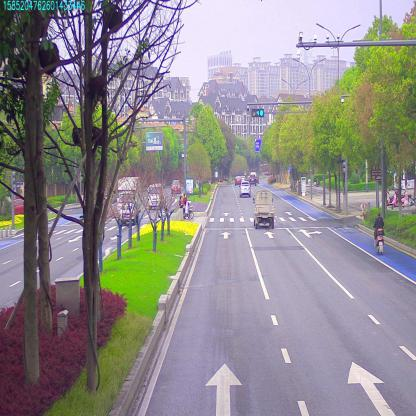traffic-light: (252, 108, 262, 118)
